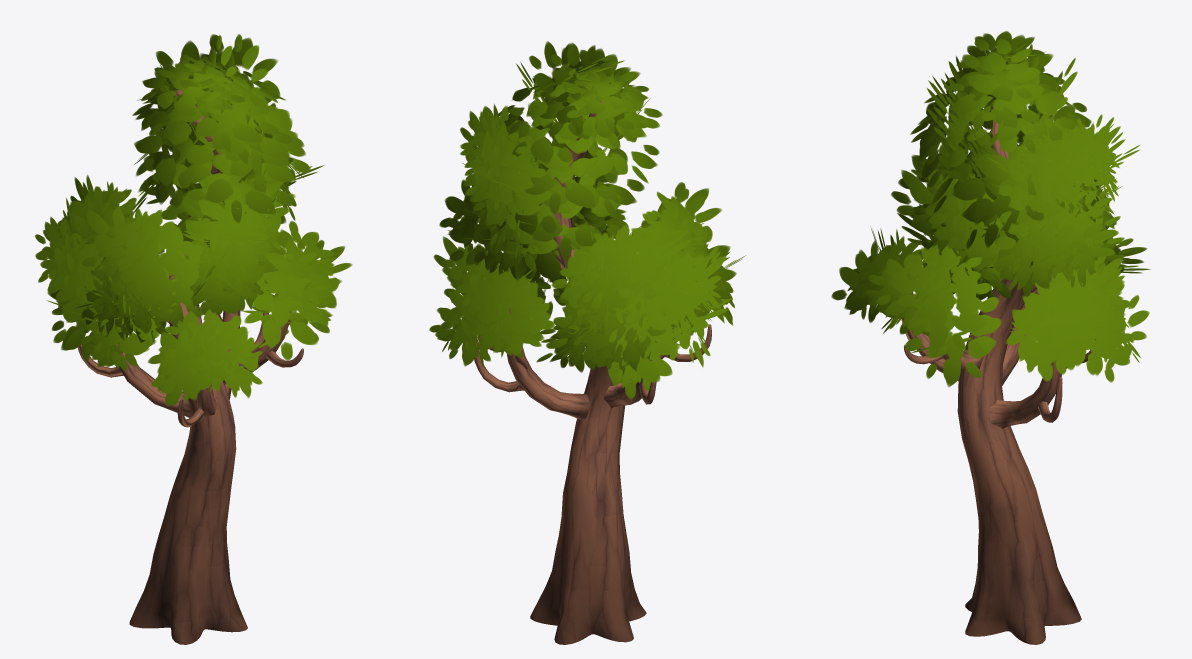
The model's file is tree-avoxahrpwe-transformed.glb.
The picture shows the model from 3 angles, left to right: view 1: azimuth 30°, elevation 25°; view 2: azimuth 150°, elevation 25°; view 3: azimuth 270°, elevation 25°; orthographic projection. The views are drawn at different scales.
Parts seen in each view (by area): view 1: CommonTree_2; view 2: CommonTree_2; view 3: CommonTree_2.
Boxes of the visible parts, x1,y1,x2,y2 form: CommonTree_2: (35,34,352,644); CommonTree_2: (429,41,745,644); CommonTree_2: (831,31,1150,644).
Size of the model in its own units: 4.46 by 7.64 by 4.28.
2 materials, 2 textured.
